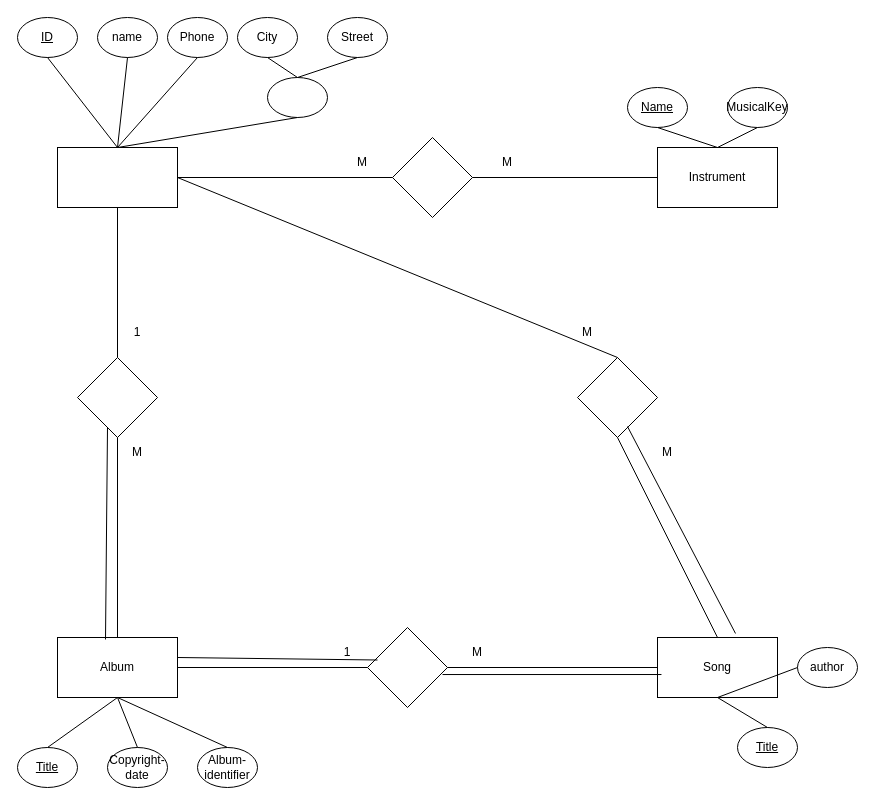
Some shapes in this 875 by 805 pixel diagram are drawn without their labels. Here are the shapes that lost their labels. From the top down, the centre of each, then its label:
At point 297,97: "Address".
At point 117,177: "Musician".
At point 432,177: "Play".
At point 117,397: "Produce".
At point 617,397: "Perform".
At point 407,667: "Has".
